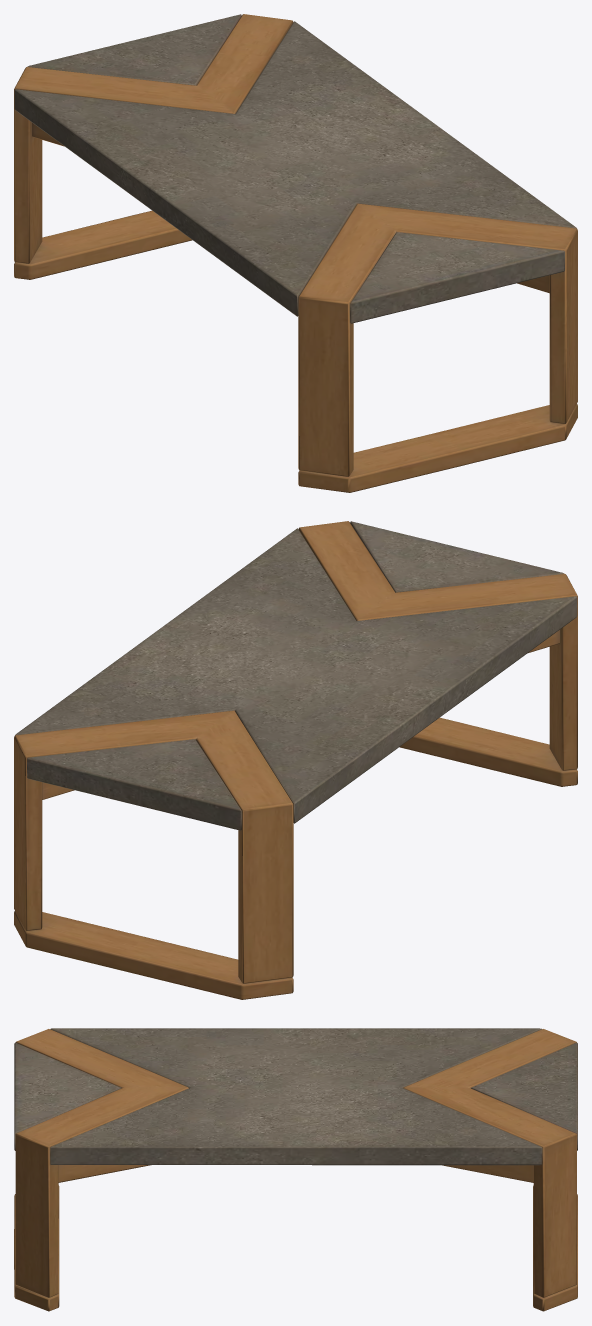
File: modern_coffee_table_01.glb
3 renders of one model, top to bottom at view 1: azimuth 30°, elevation 25°; view 2: azimuth 150°, elevation 25°; view 3: azimuth 270°, elevation 25°, orthographic. The views are drawn at different scales.
Parts seen in each view (by area): view 1: modern_coffee_table_01; view 2: modern_coffee_table_01; view 3: modern_coffee_table_01.
Boxes of the visible parts, left/top/right/bottom form: modern_coffee_table_01: left=14, top=14, right=577, bottom=492; modern_coffee_table_01: left=14, top=521, right=577, bottom=999; modern_coffee_table_01: left=14, top=1028, right=577, bottom=1311.
Bounding box in the file's own units: 0.5999 × 0.39 × 1.2.
Materials: 1 (1 with a texture image).
